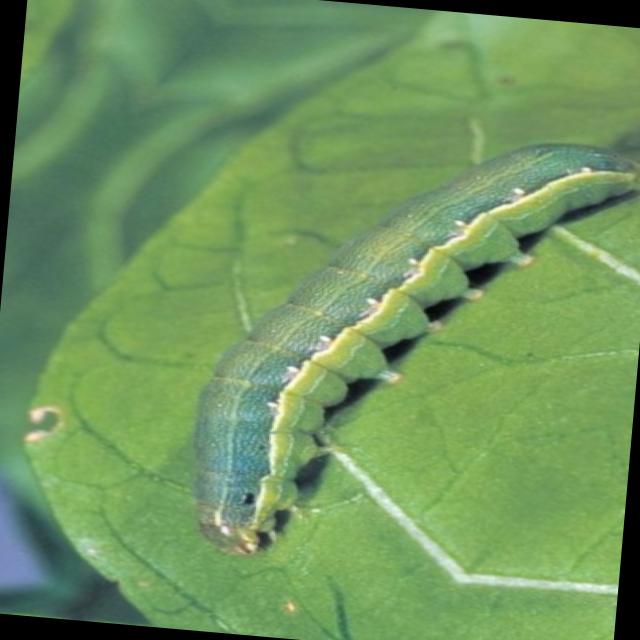Armyworm: (153, 55, 640, 587)
Armyworm_damage: (1, 373, 107, 470)
